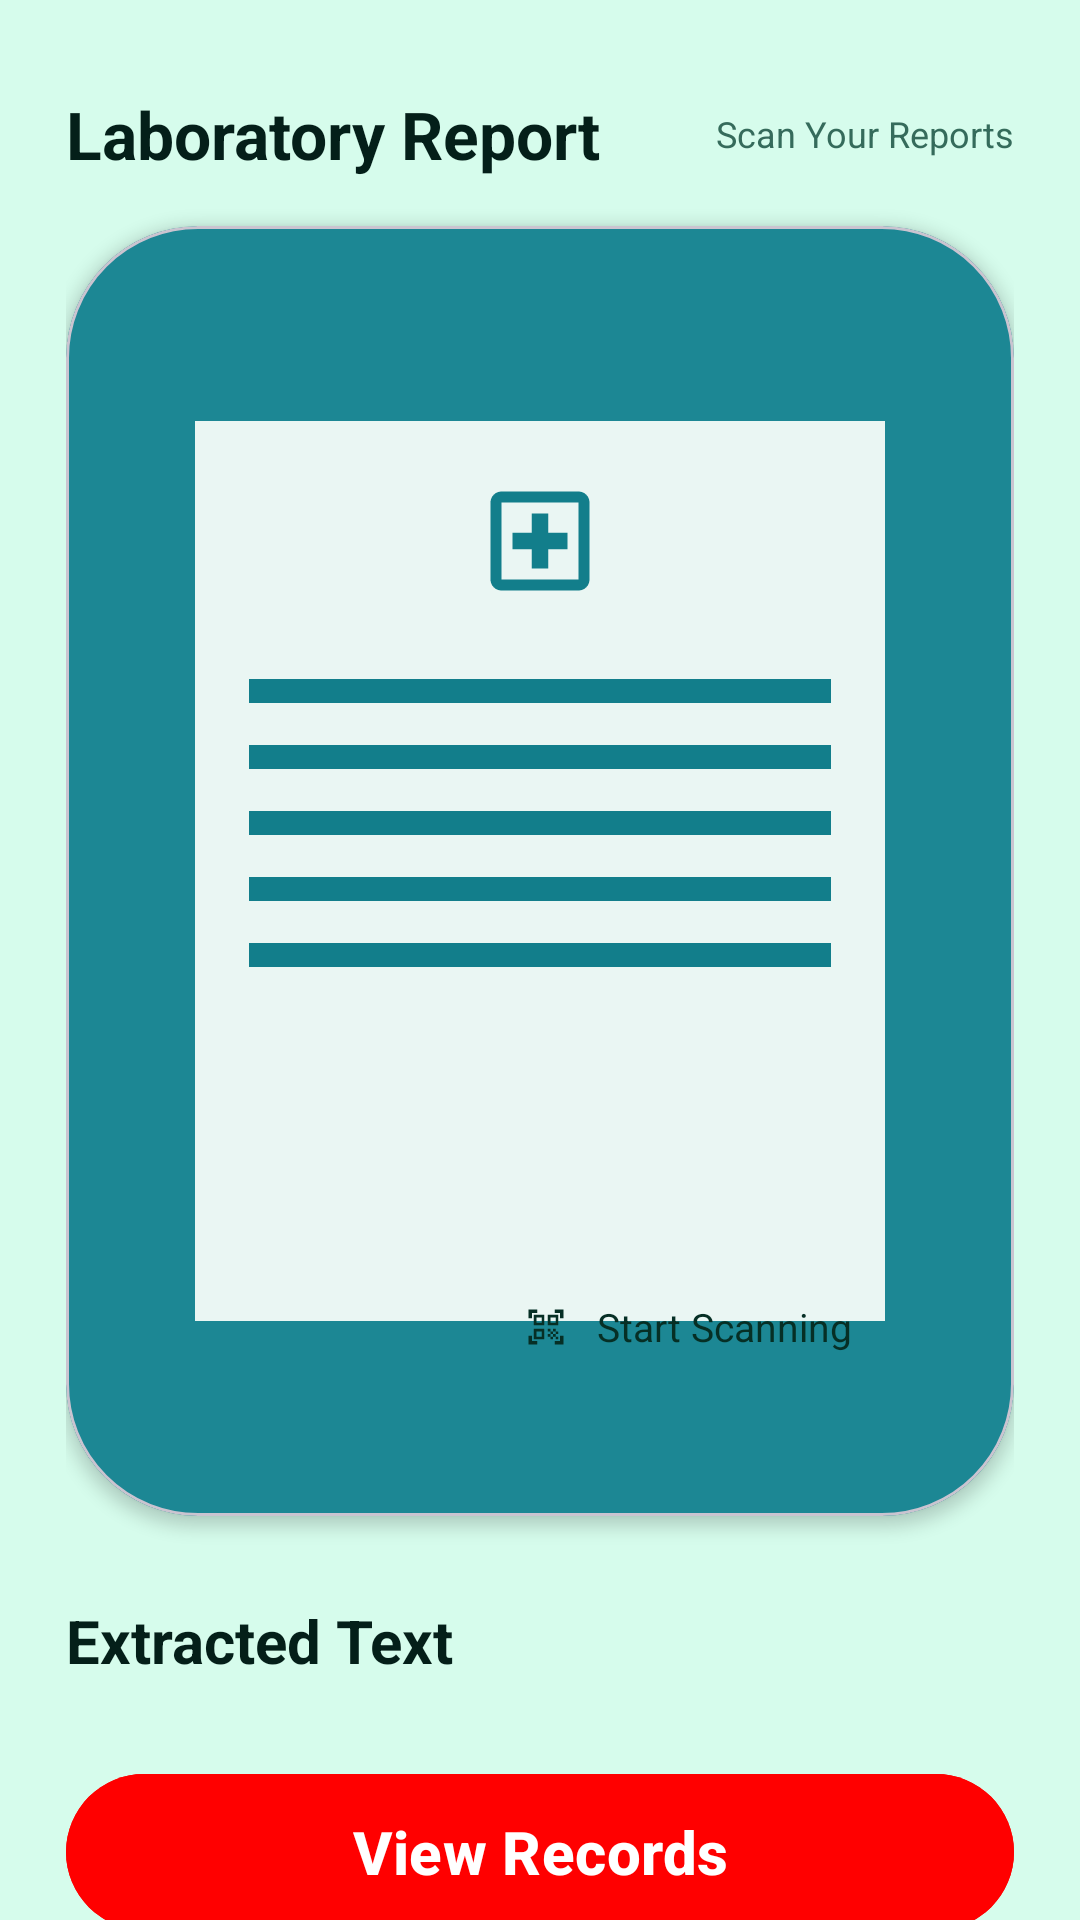

Point at icon controls on the screen. Image size 1080 x 1920, points as (x=x, y=y).
medical: (x=540, y=541)
qr scan: (x=546, y=1327)
